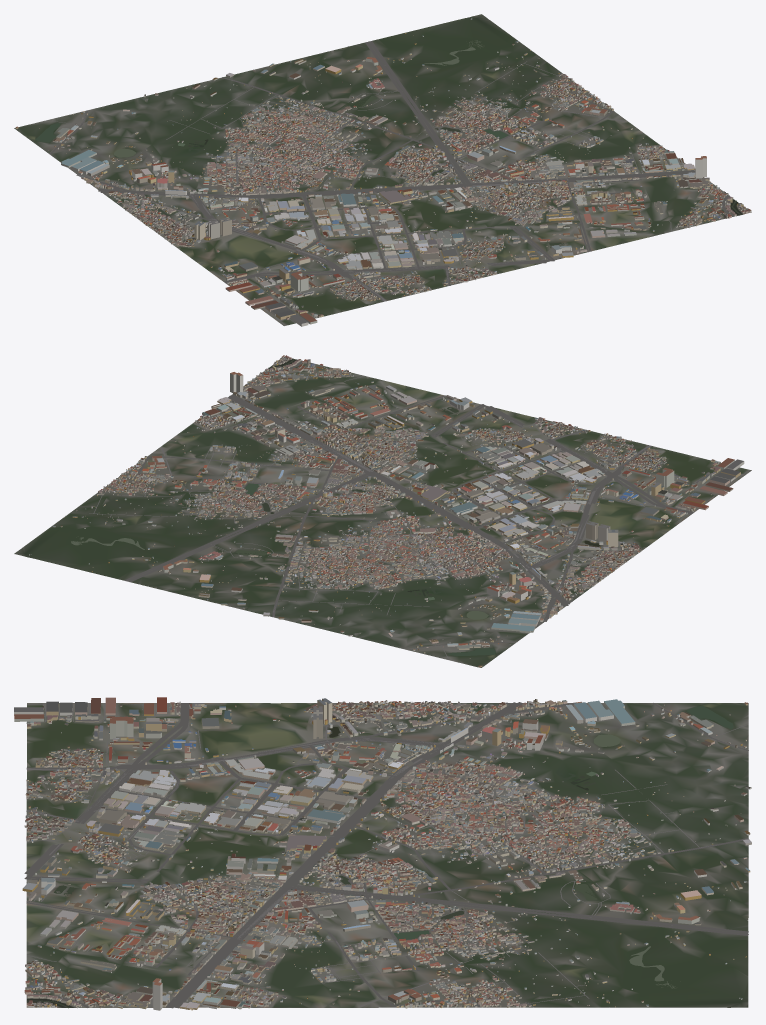
3 renders of one model, top to bottom at view 1: azimuth 30°, elevation 25°; view 2: azimuth 150°, elevation 25°; view 3: azimuth 270°, elevation 25°, orthographic. The views are drawn at different scales.
Parts seen in each view (by area): view 1: ground, buildings, roads, water; view 2: ground, buildings, roads, water; view 3: ground, buildings, roads, water.
Boxes of the visible parts, bbox=[...] form: ground: bbox=[14, 14, 751, 325]; buildings: bbox=[15, 18, 751, 326]; roads: bbox=[46, 41, 733, 325]; water: bbox=[35, 17, 742, 247]; ground: bbox=[14, 358, 751, 667]; buildings: bbox=[29, 355, 744, 667]; roads: bbox=[89, 360, 749, 659]; water: bbox=[23, 358, 599, 656]; ground: bbox=[26, 703, 748, 1007]; buildings: bbox=[14, 697, 751, 1010]; roads: bbox=[24, 702, 748, 1008]; water: bbox=[27, 705, 745, 1008].
Bounding box in the file's own units: 2862 × 111 × 2866.
